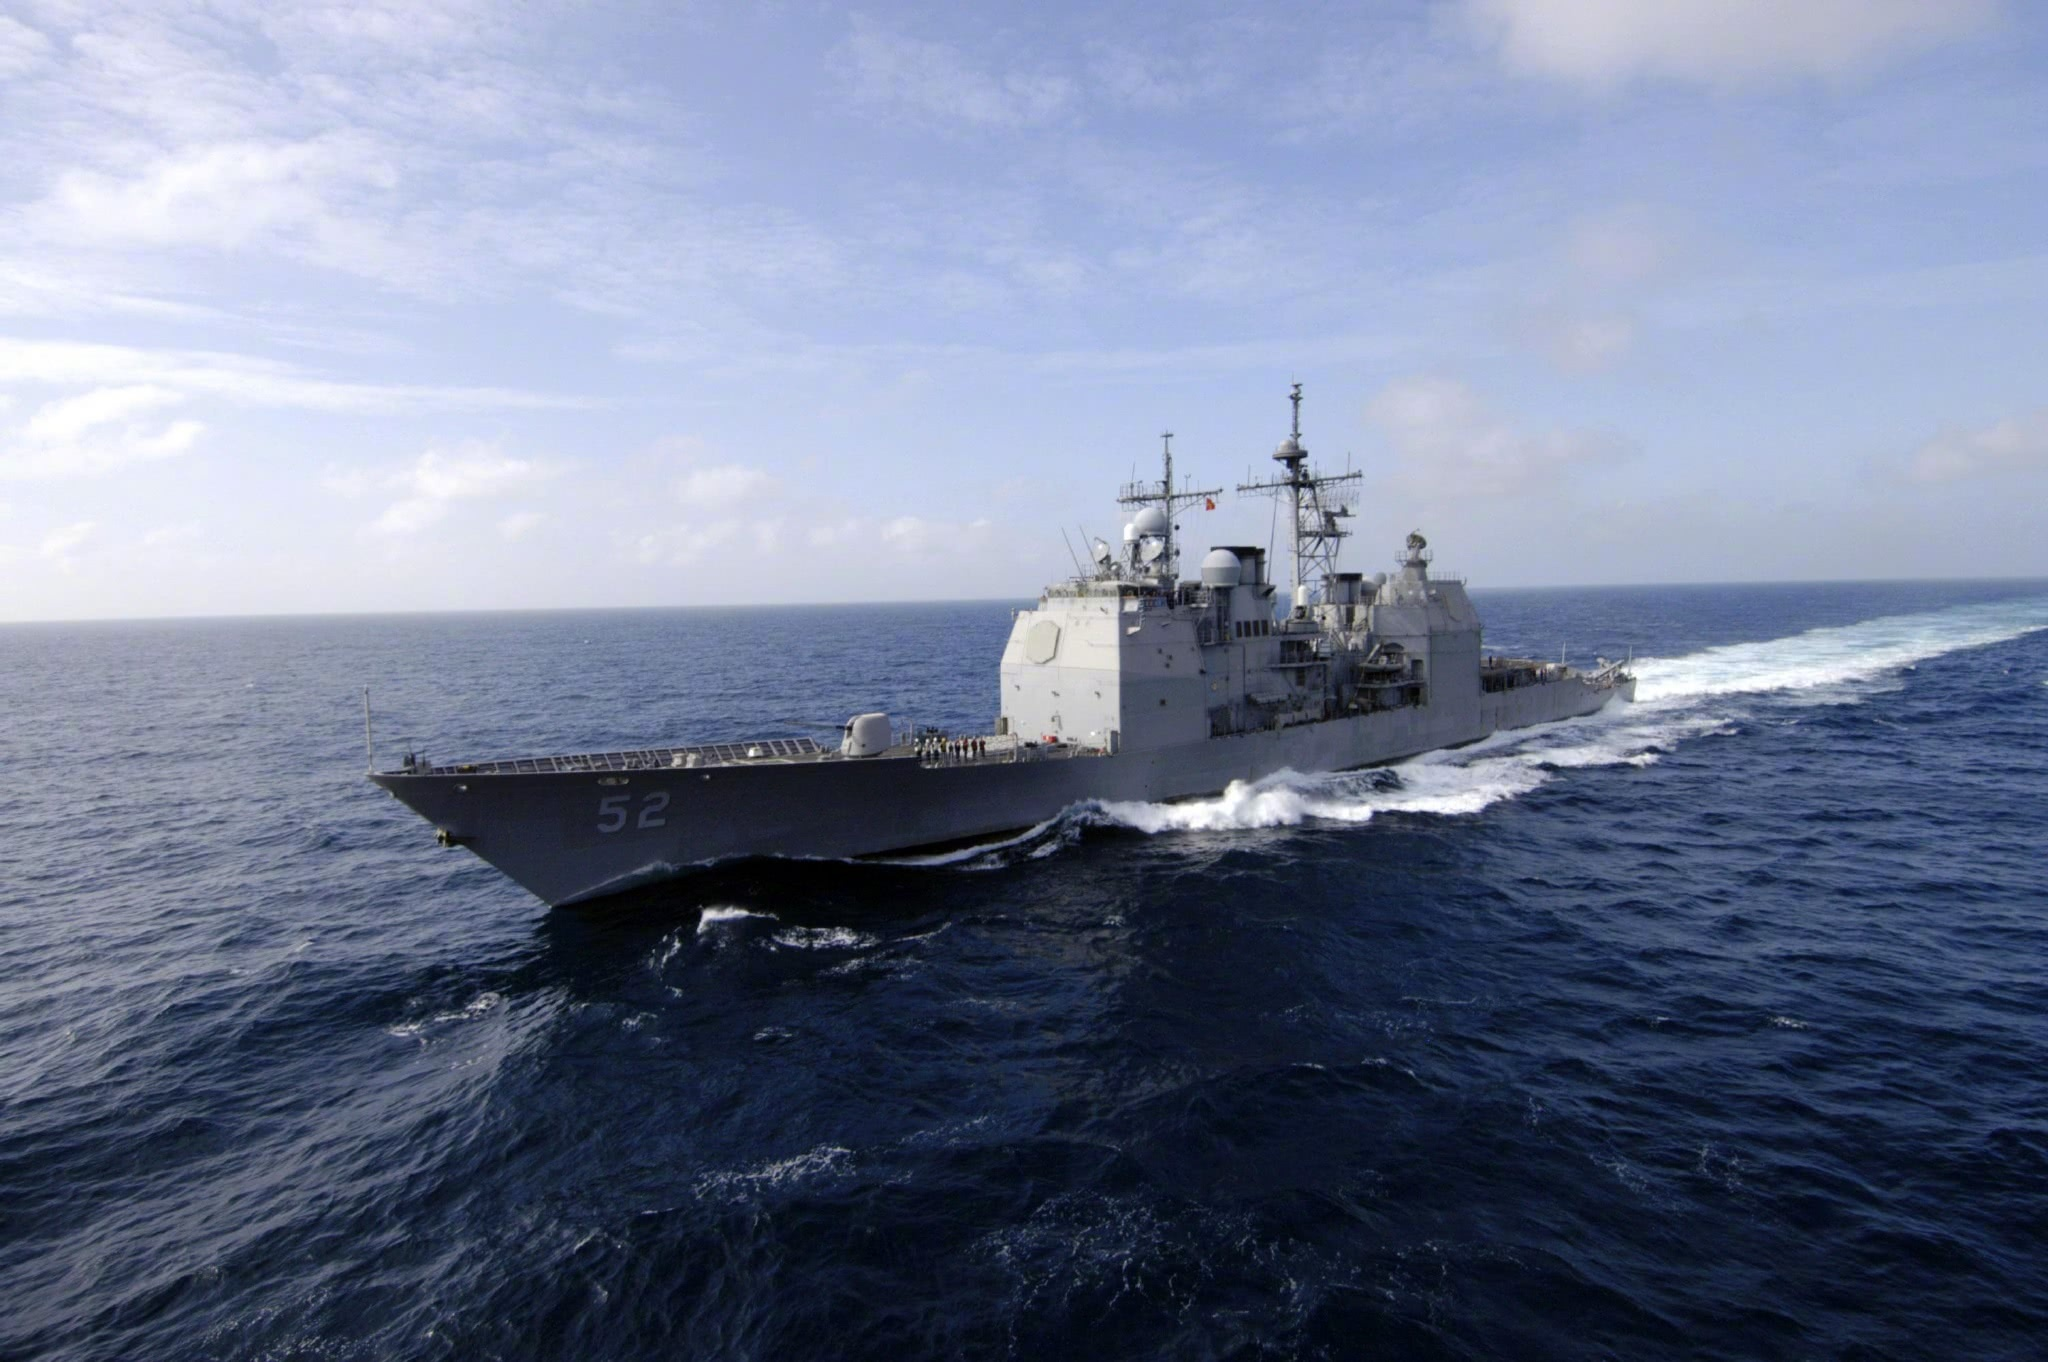warship: (374, 400, 1624, 911)
